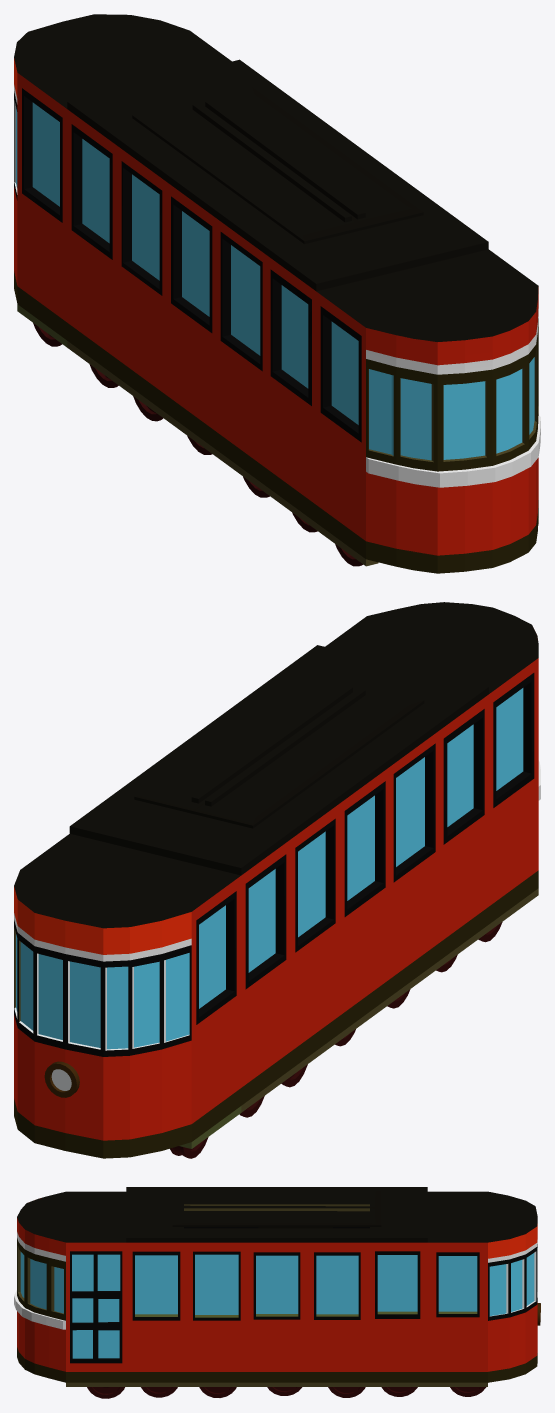
The model's file is Trampolin(UPDATED).glb.
The picture shows the model from 3 angles, top to bottom: view 1: azimuth 30°, elevation 25°; view 2: azimuth 150°, elevation 25°; view 3: azimuth 270°, elevation 25°; orthographic projection. The views are drawn at different scales.
Visible parts, largest first — view 1: pCylinder47; view 2: pCylinder47; view 3: pCylinder47.
Part boxes in pixels (x1=…): pCylinder47: x1=14, y1=14, x2=540, y2=573; pCylinder47: x1=14, y1=602, x2=540, y2=1158; pCylinder47: x1=14, y1=1187, x2=540, y2=1398.
Size of the model in its own units: 4.22 by 6.58 by 18.31.
